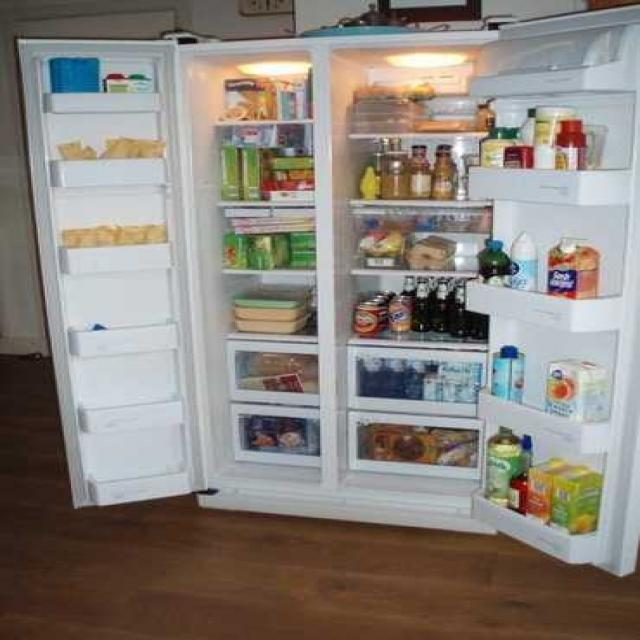refrigerator: (32, 45, 640, 548)
